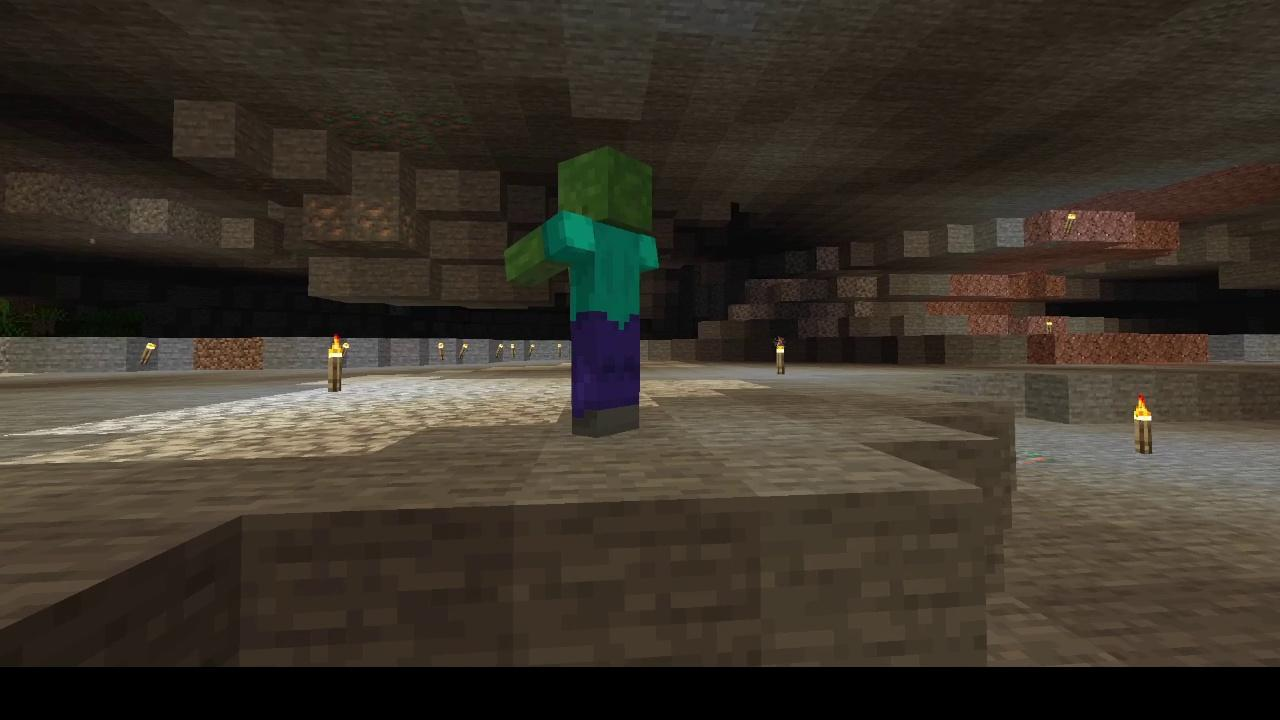zombie: (497, 140, 666, 445)
